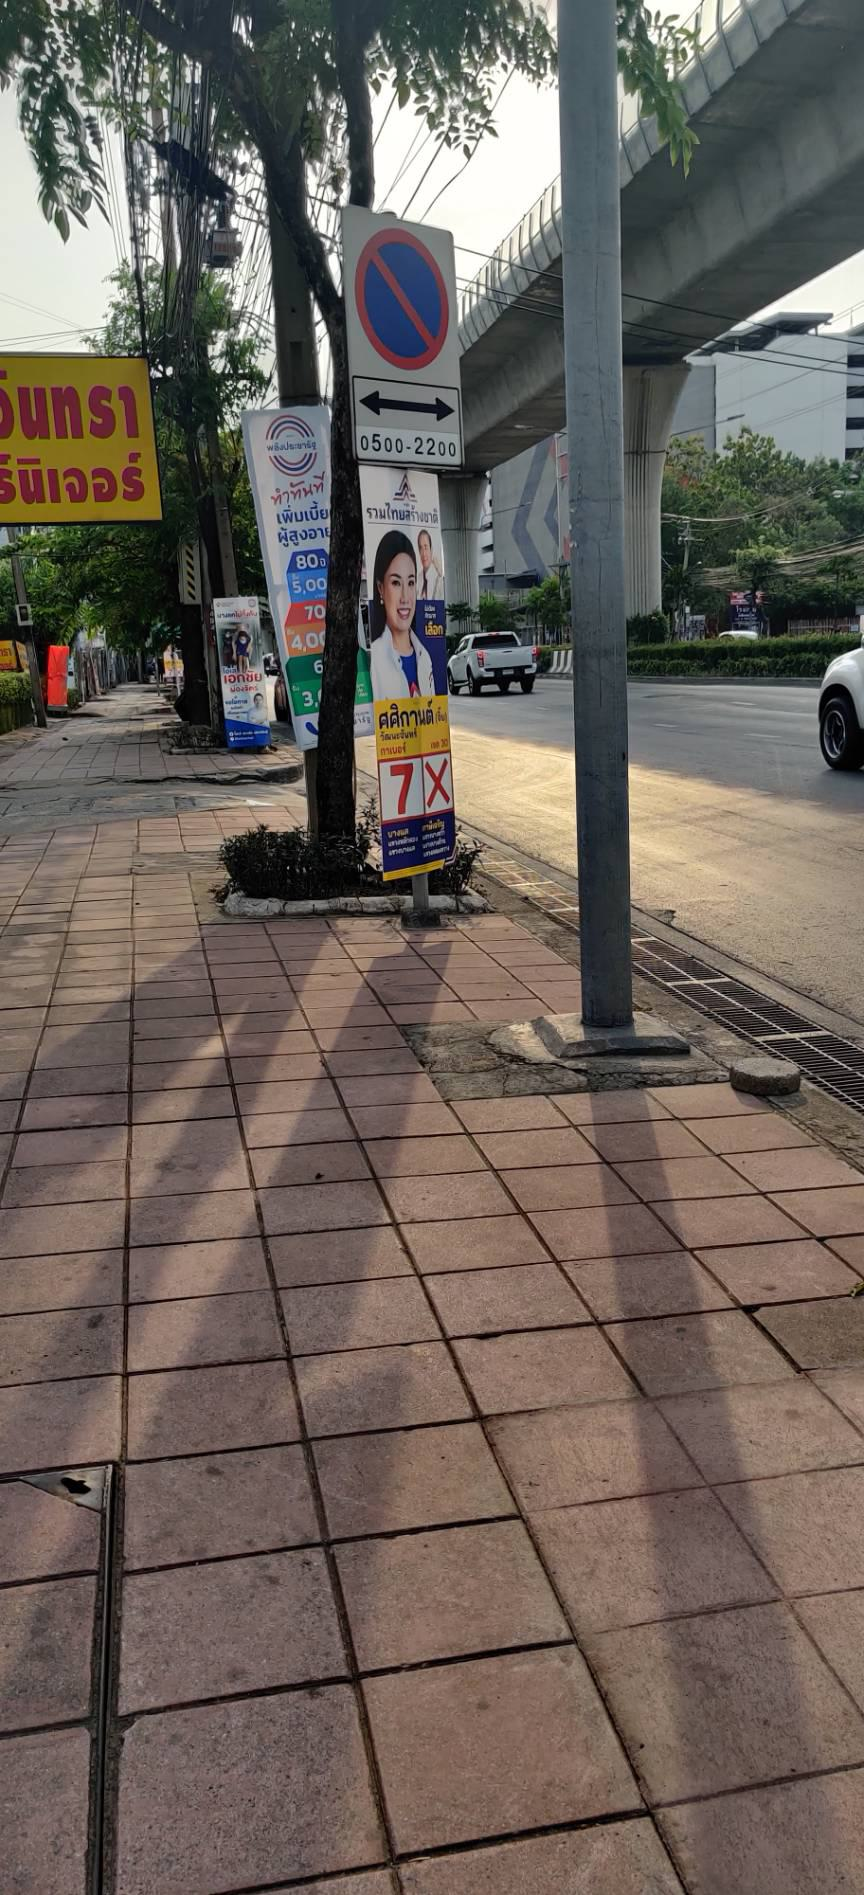Banner: (349, 465, 437, 883)
